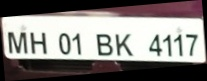character: (6, 30, 27, 54), (114, 32, 132, 57), (29, 30, 47, 54), (95, 33, 112, 56), (149, 33, 163, 56), (185, 33, 198, 55), (58, 32, 70, 55), (162, 34, 172, 56), (173, 33, 182, 57), (72, 32, 81, 55)
